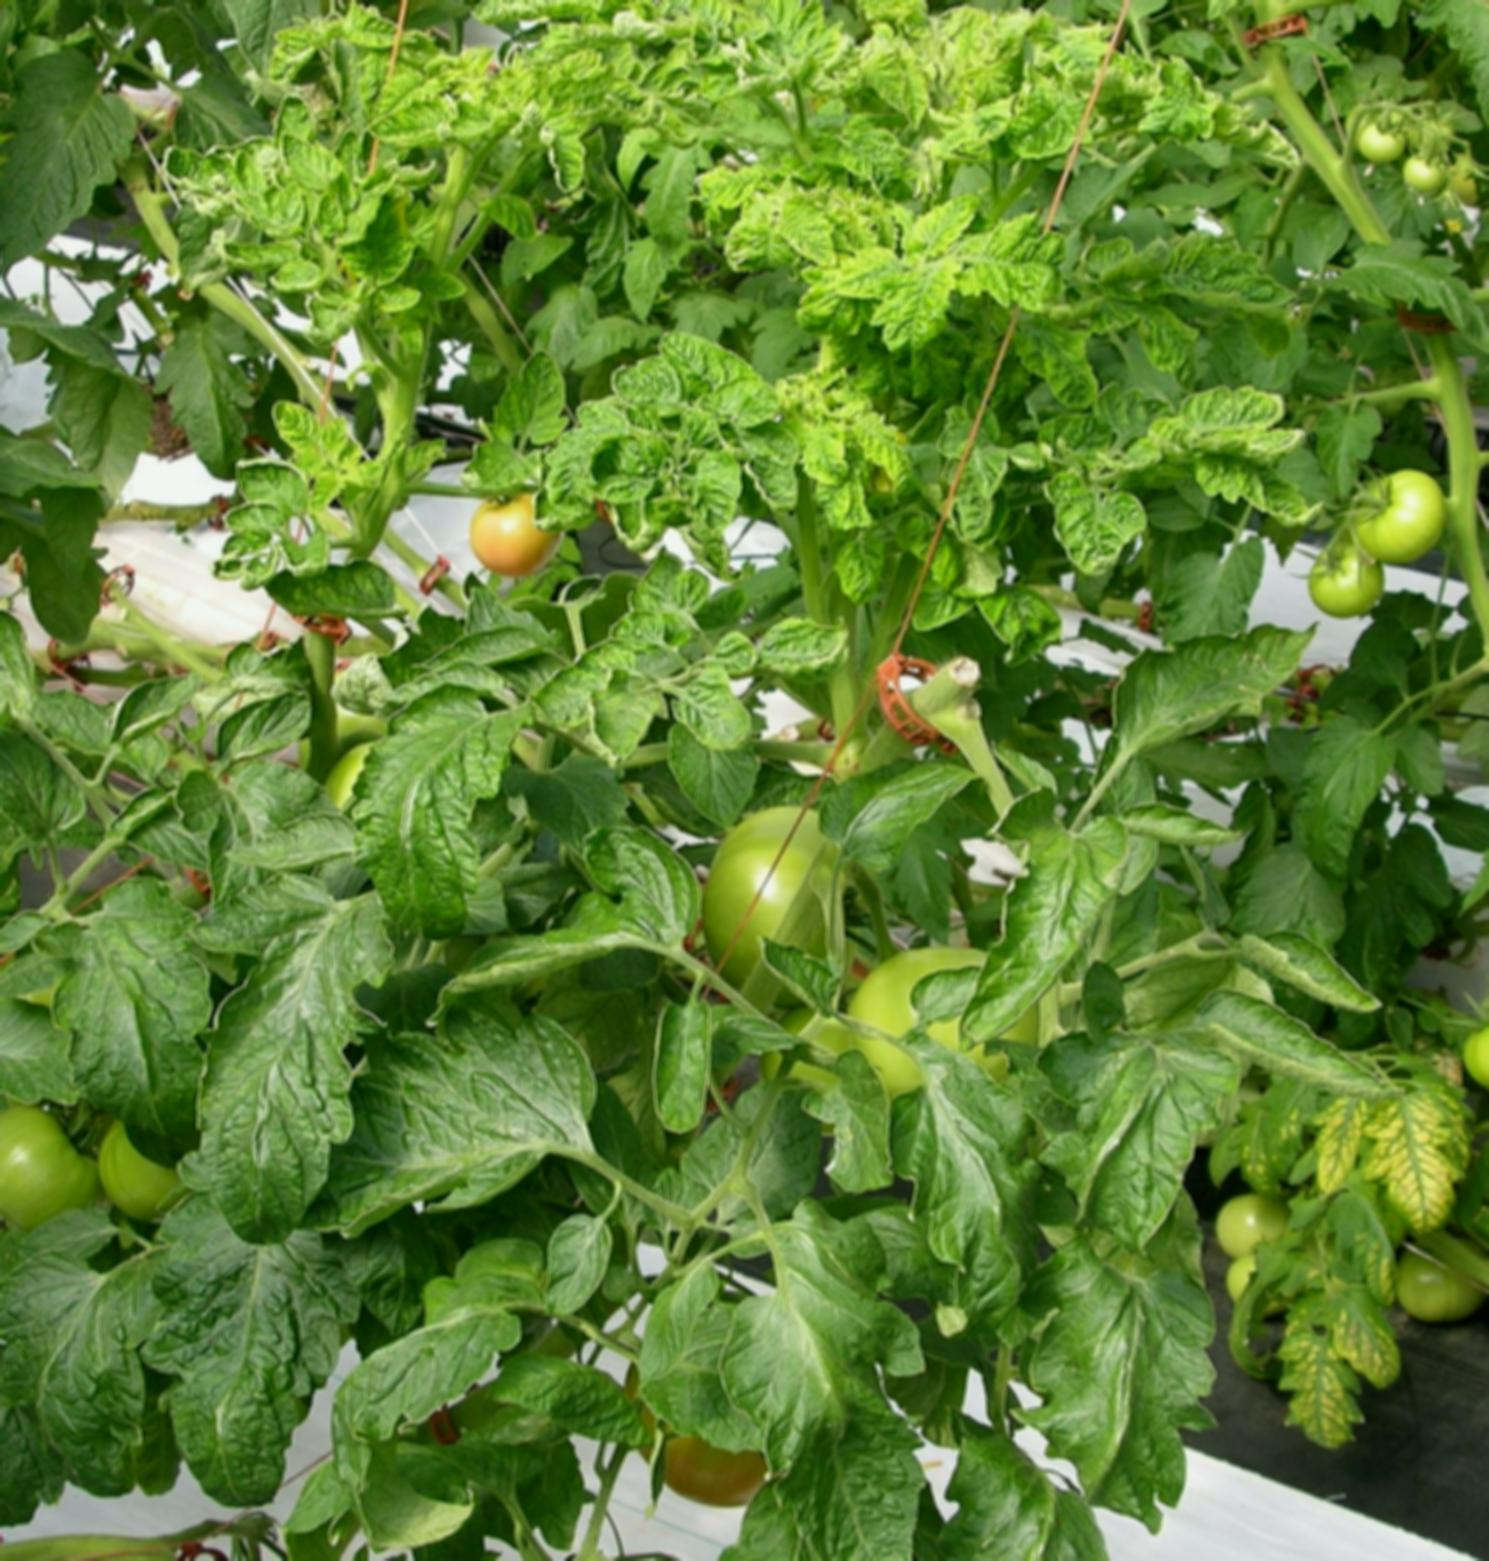Tomato leaf yellow virus: (173, 927, 372, 1256), (343, 686, 548, 955), (1244, 1192, 1405, 1461), (1136, 380, 1318, 549), (1361, 1065, 1472, 1231), (1023, 470, 1171, 587), (703, 174, 845, 279), (952, 219, 1093, 319), (772, 354, 850, 517), (485, 334, 576, 459), (839, 39, 940, 144), (335, 188, 421, 290), (252, 385, 351, 471), (855, 408, 929, 523), (530, 100, 602, 203), (876, 262, 951, 355), (272, 132, 344, 194)
